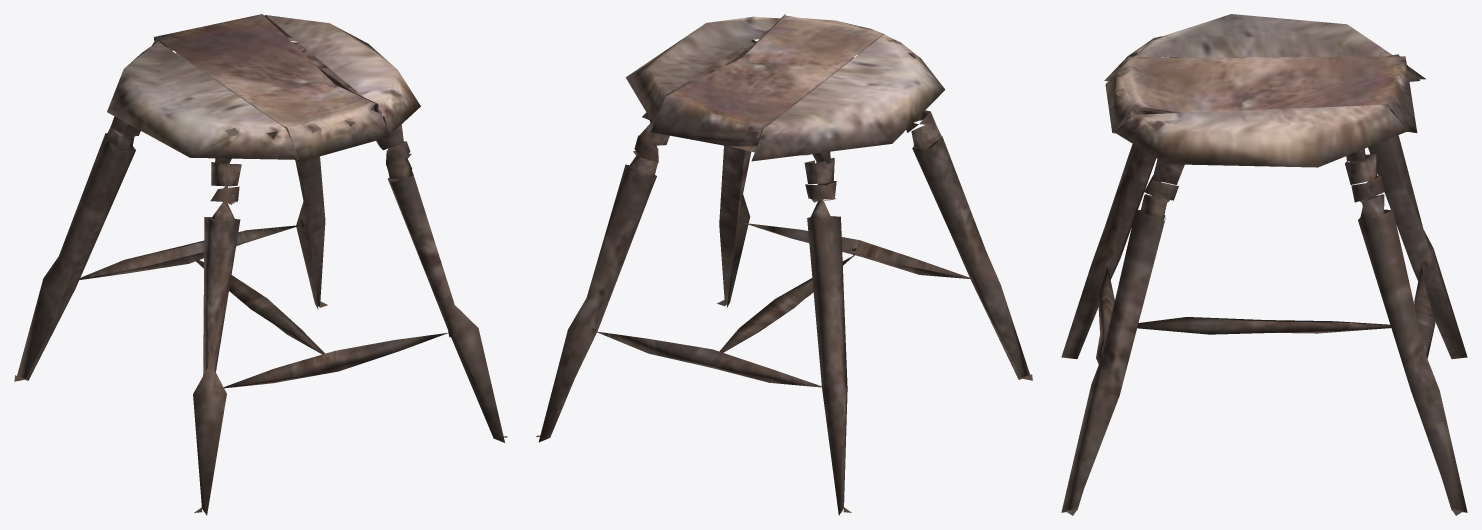
The model's file is stool.glb.
3 views of the same model, side by side, from view 1: azimuth 30°, elevation 25°; view 2: azimuth 150°, elevation 25°; view 3: azimuth 270°, elevation 25° (orthographic). The views are drawn at different scales.
Visible parts, largest first — view 1: wooden_stool_01; view 2: wooden_stool_01; view 3: wooden_stool_01.
Part boxes in pixels (x1,y1,x2,y2): wooden_stool_01: [14, 14, 507, 515]; wooden_stool_01: [536, 14, 1032, 515]; wooden_stool_01: [1061, 14, 1467, 515].
Size of the model in its own units: 0.4245 by 0.4379 by 0.4456.
1 material, 1 textured.
